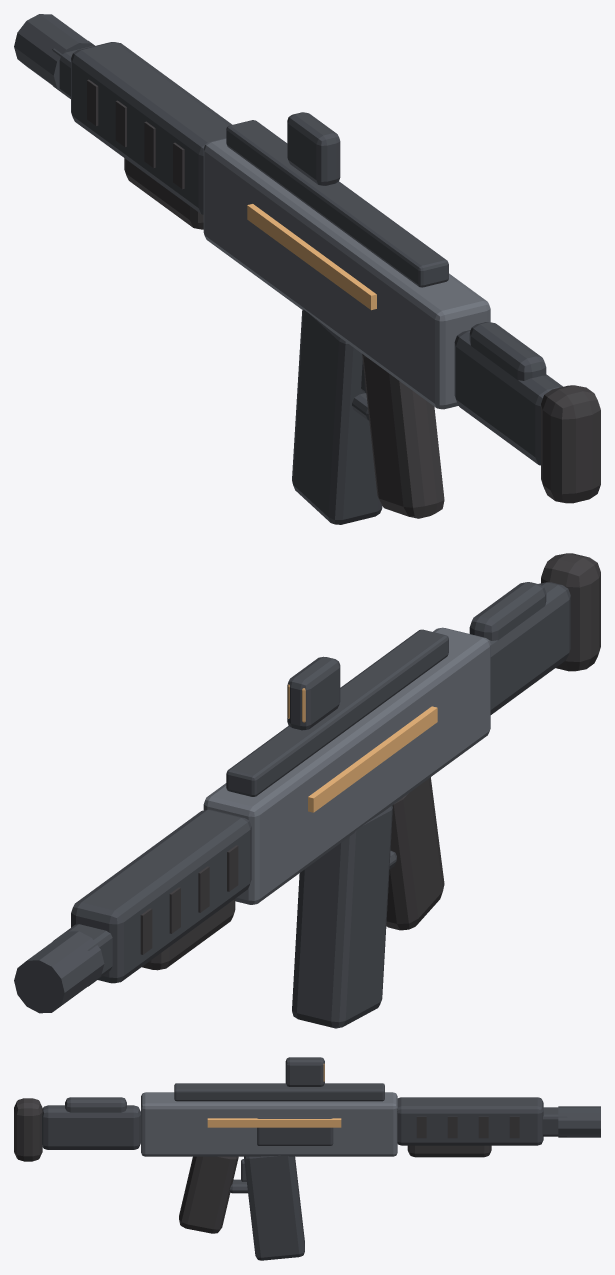
Rendered from WPN_PulseRifle.fbx.
3 renders of one model, top to bottom at view 1: azimuth 30°, elevation 25°; view 2: azimuth 150°, elevation 25°; view 3: azimuth 270°, elevation 25°, orthographic. The views are drawn at different scales.
Parts seen in each view (by area): view 1: WPN_PulseRifle; view 2: WPN_PulseRifle; view 3: WPN_PulseRifle.
Boxes of the visible parts, <box> form: WPN_PulseRifle: <box>14,14,600,524</box>; WPN_PulseRifle: <box>14,553,600,1028</box>; WPN_PulseRifle: <box>14,1057,600,1260</box>.
Bounding box in the file's own units: 0.058 × 0.3054 × 0.823.
